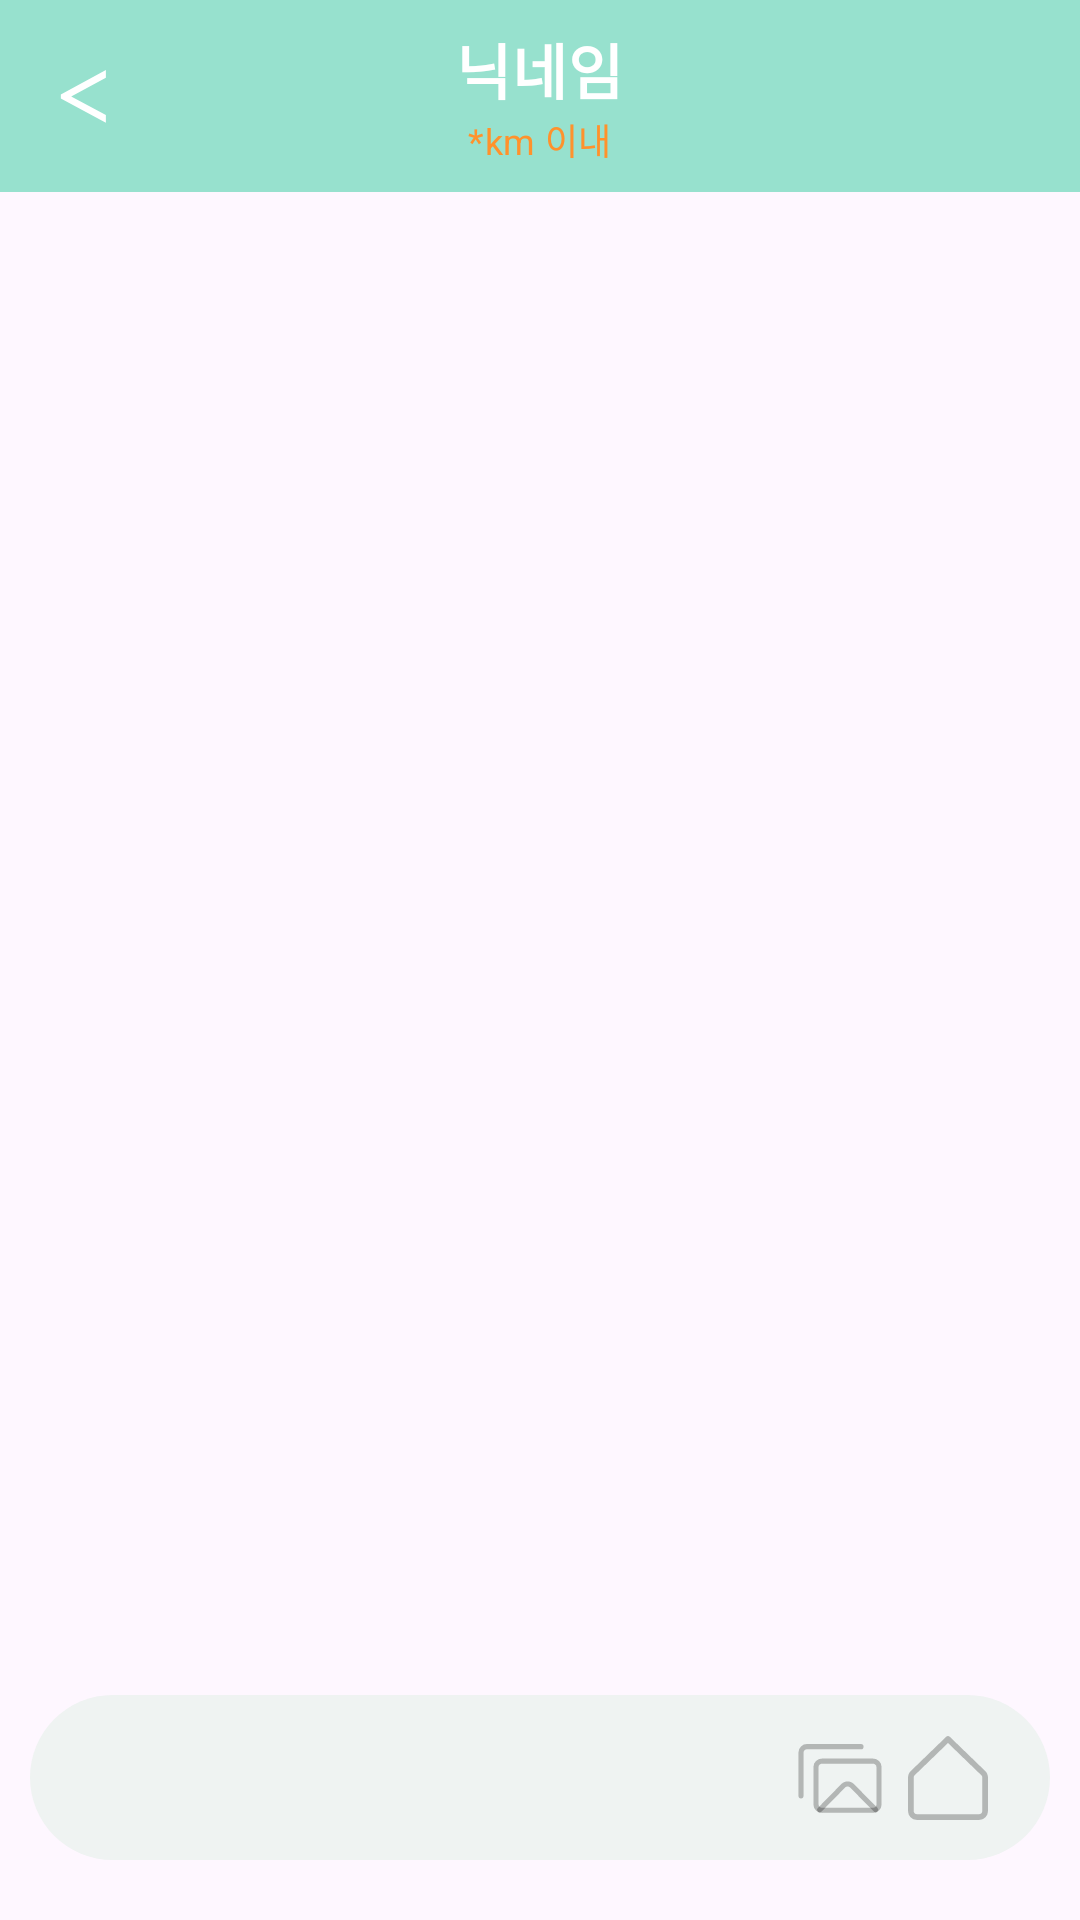

Icons on this 1080 x 1920 Android screen, each with the point to tap as (x,y):
gallerary: (840,1778)
